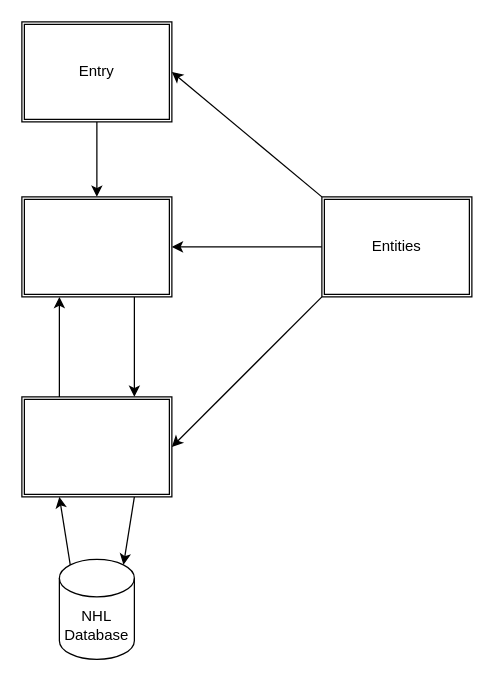
This 494x681 diagram has some shape labels left out. The shapes that lost their labels are listed below. From the top down, each one's box as (x1, y1, x2, y2) in pixels, then its label:
(21, 196, 172, 297): Business Logic
(21, 396, 172, 497): Data Repository
